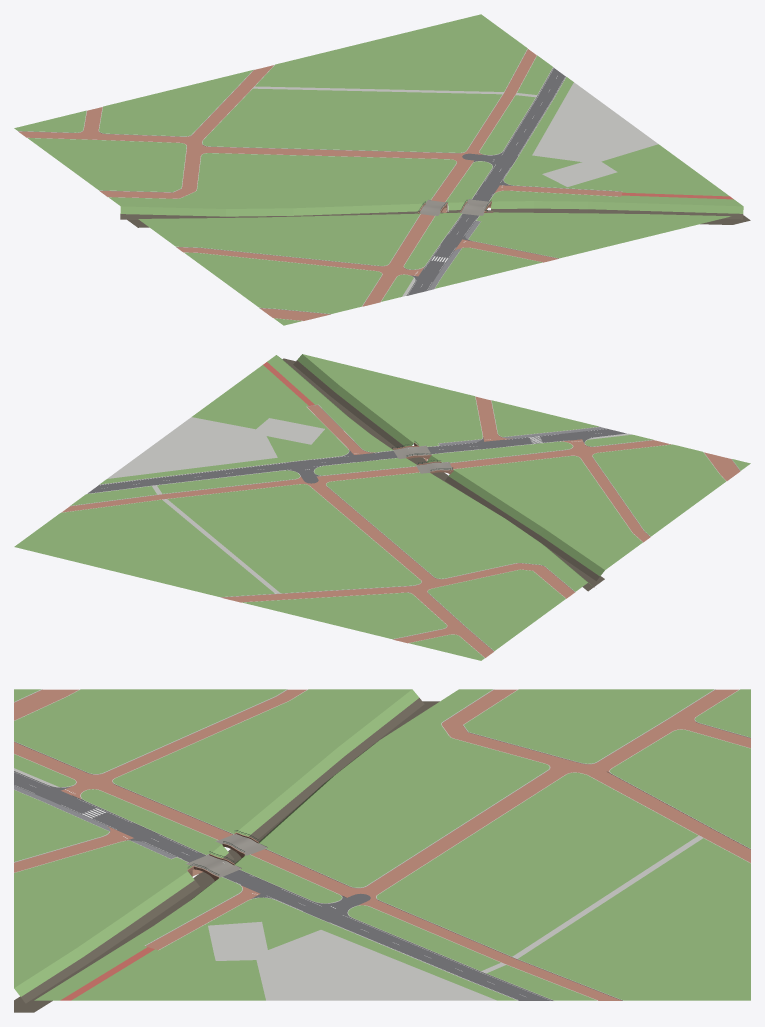
The model's file is ground_5_8.glb.
The picture shows the model from 3 angles, top to bottom: view 1: azimuth 30°, elevation 25°; view 2: azimuth 150°, elevation 25°; view 3: azimuth 270°, elevation 25°; orthographic projection. The views are drawn at different scales.
Parts seen in each view (by area): view 1: ground_5_8; view 2: ground_5_8; view 3: ground_5_8.
Boxes of the visible parts, bbox=[...] form: ground_5_8: bbox=[14, 14, 750, 325]; ground_5_8: bbox=[14, 354, 750, 660]; ground_5_8: bbox=[14, 689, 750, 1012].
Size of the model in its own units: 203 by 5.03 by 200.
